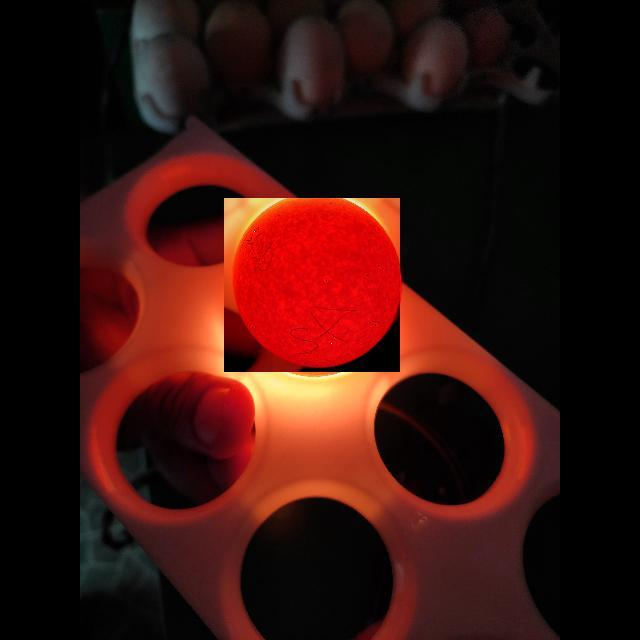A - Good: (224, 198, 400, 372)
